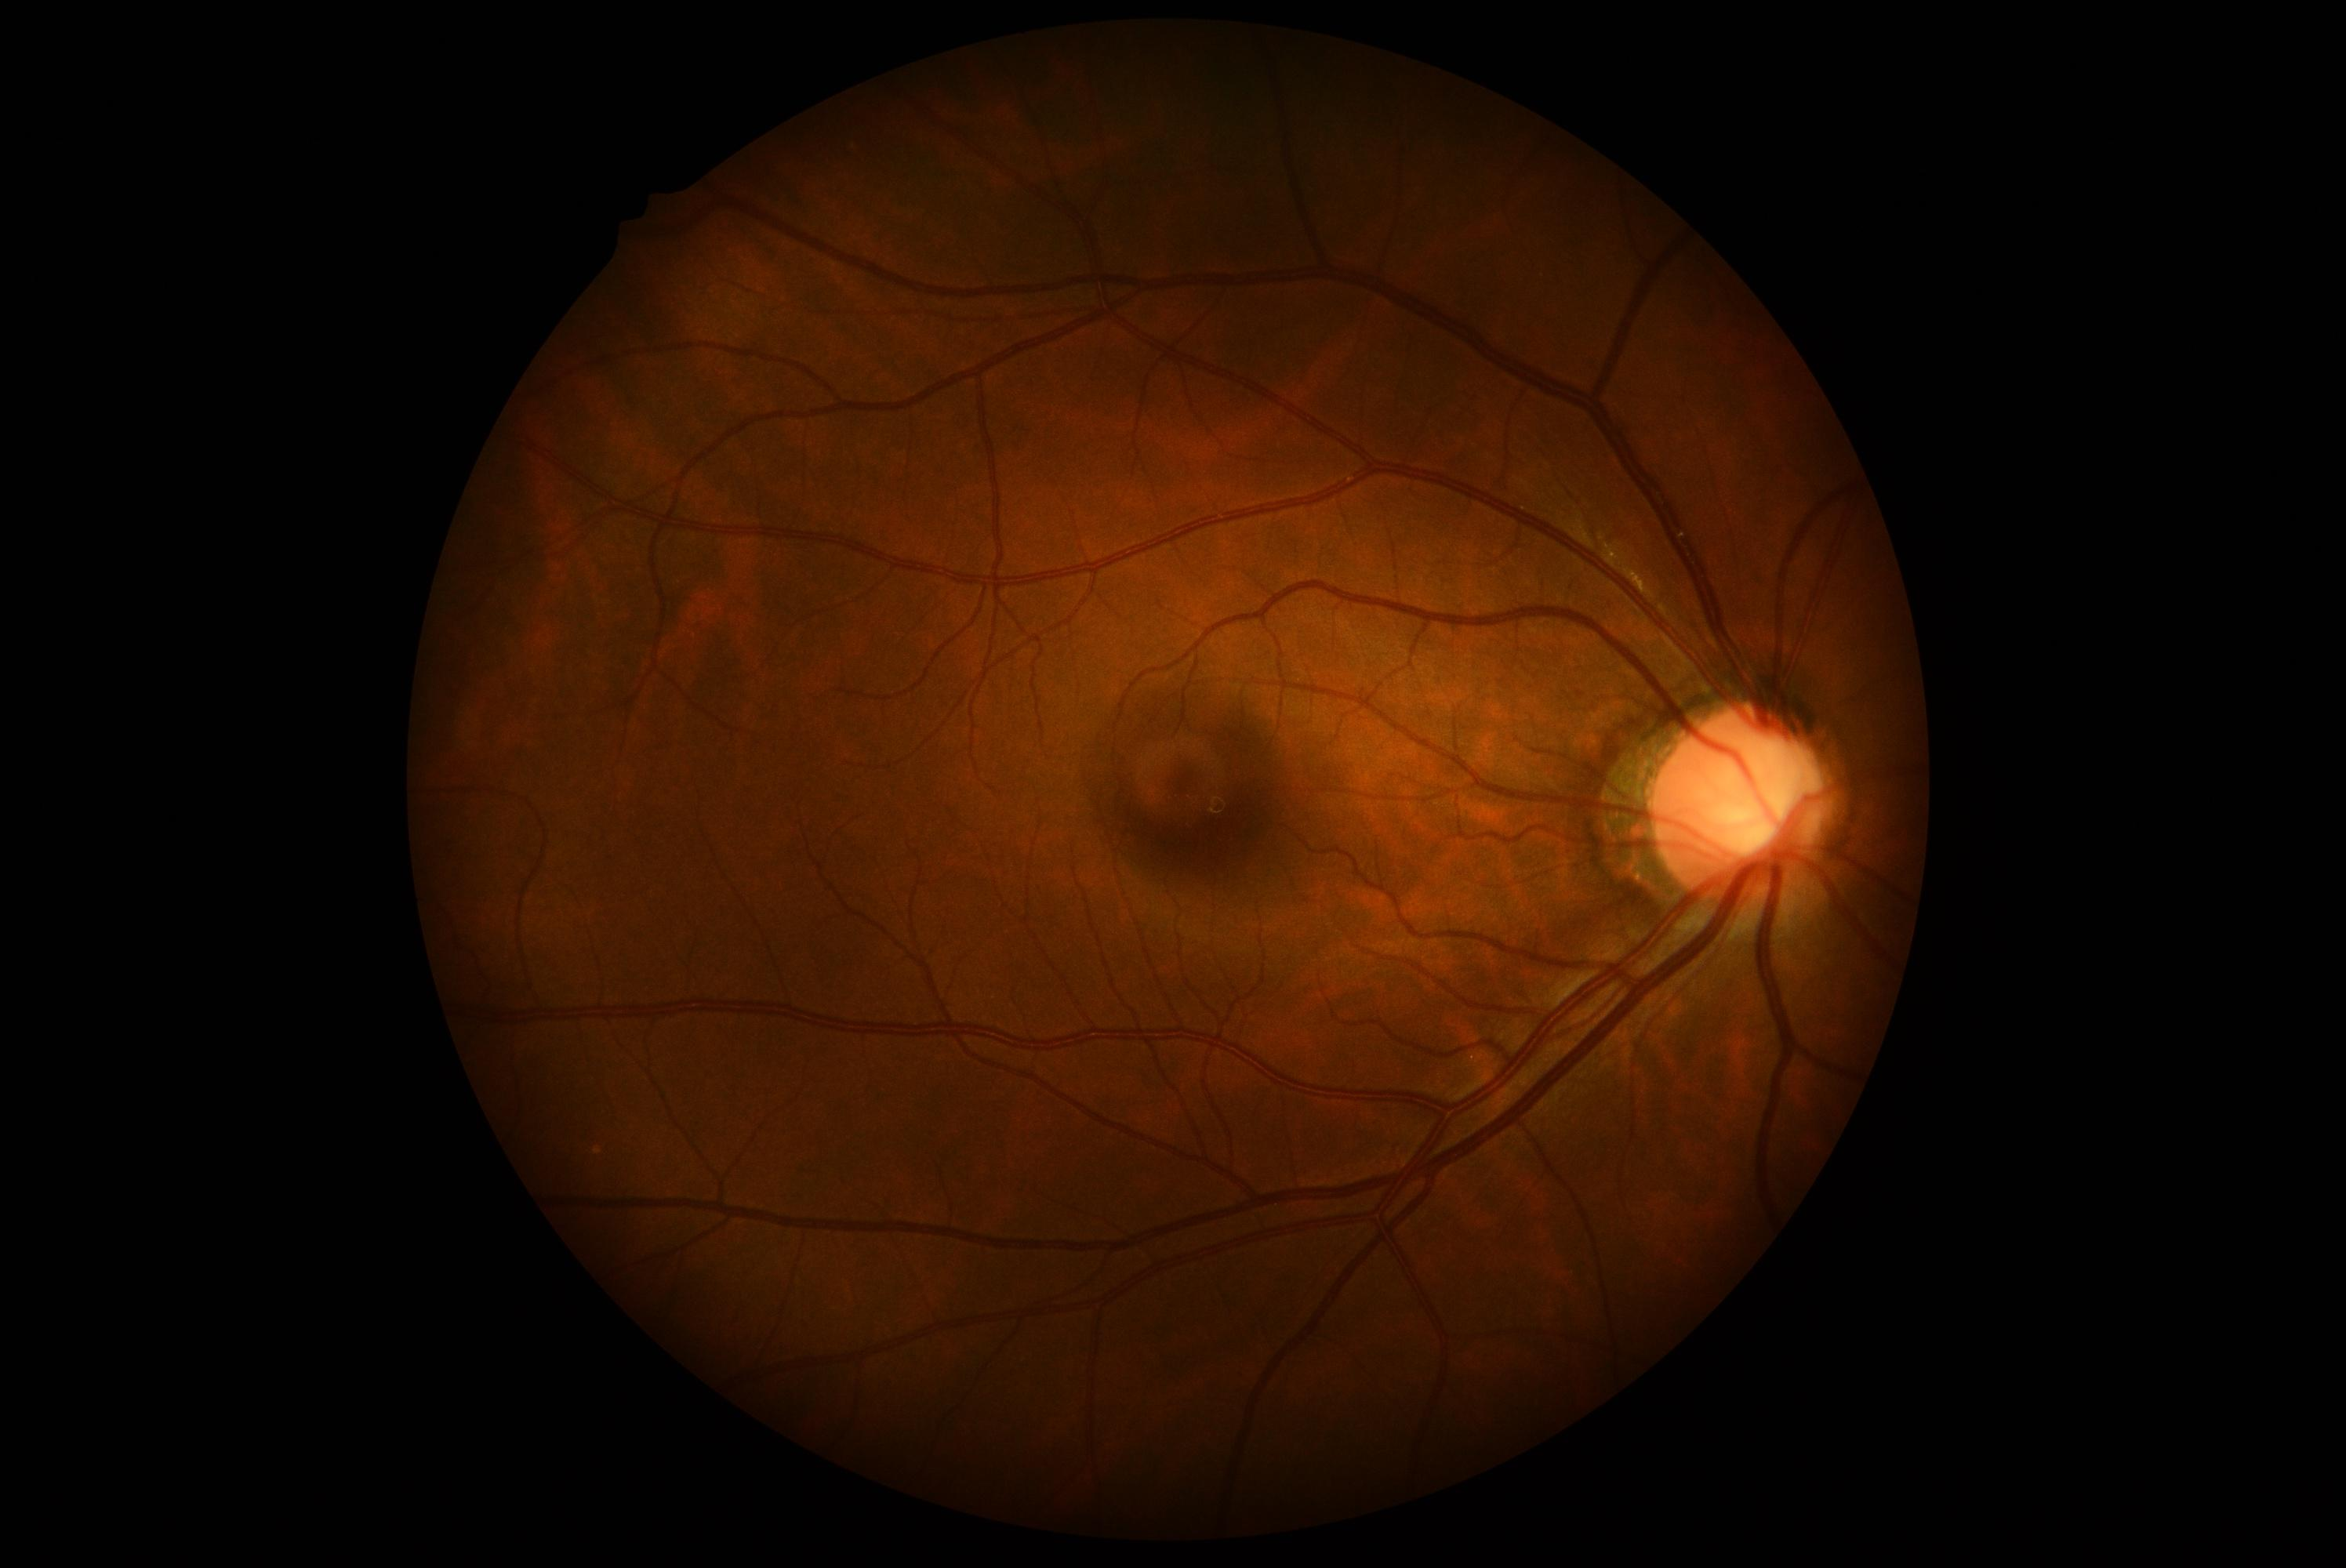Fovea: (1081, 733, 1233, 878)
